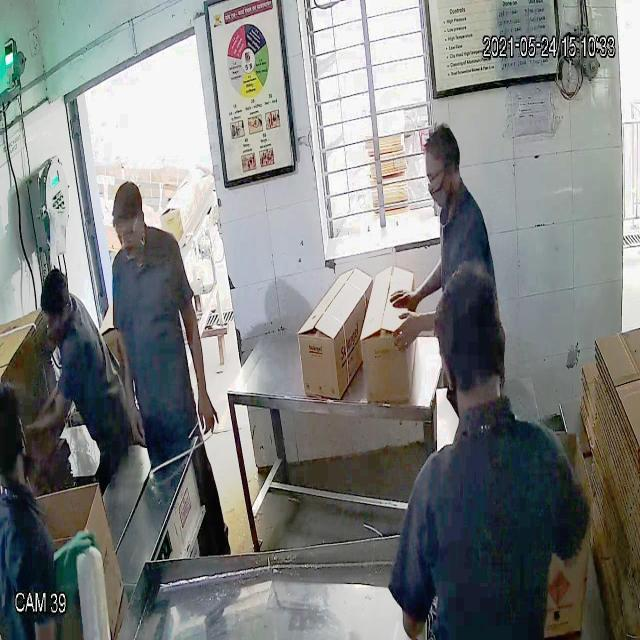glasses: (111, 215, 145, 248)
